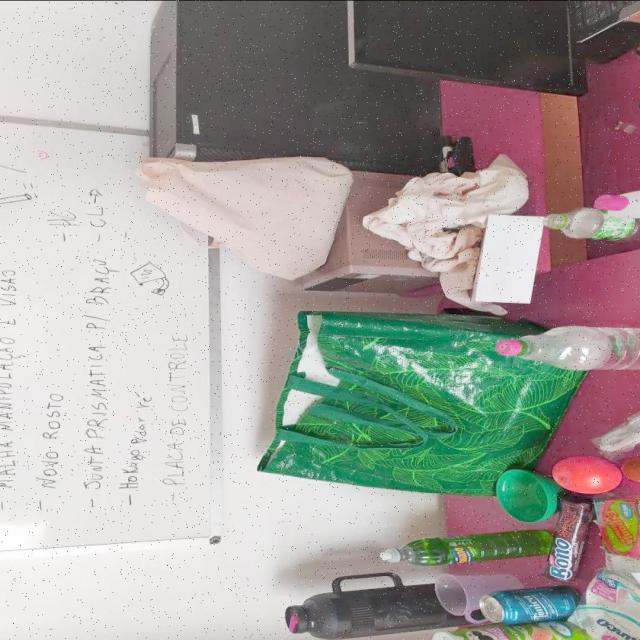Bag: (256, 306, 593, 502), (132, 152, 357, 279)
Bowl: (497, 468, 561, 523)
Cleaner: (380, 530, 556, 568)
Cookies: (543, 497, 593, 579)
Mug: (432, 571, 532, 622)
Orange: (550, 455, 623, 493)
Plate: (580, 570, 639, 640)
Pringles: (432, 620, 604, 640)
Sponge: (597, 500, 640, 557)
Tonic: (478, 583, 582, 622)
